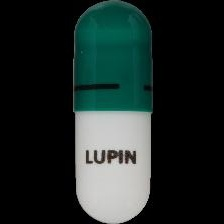27437-110: (0, 0, 224, 224)
